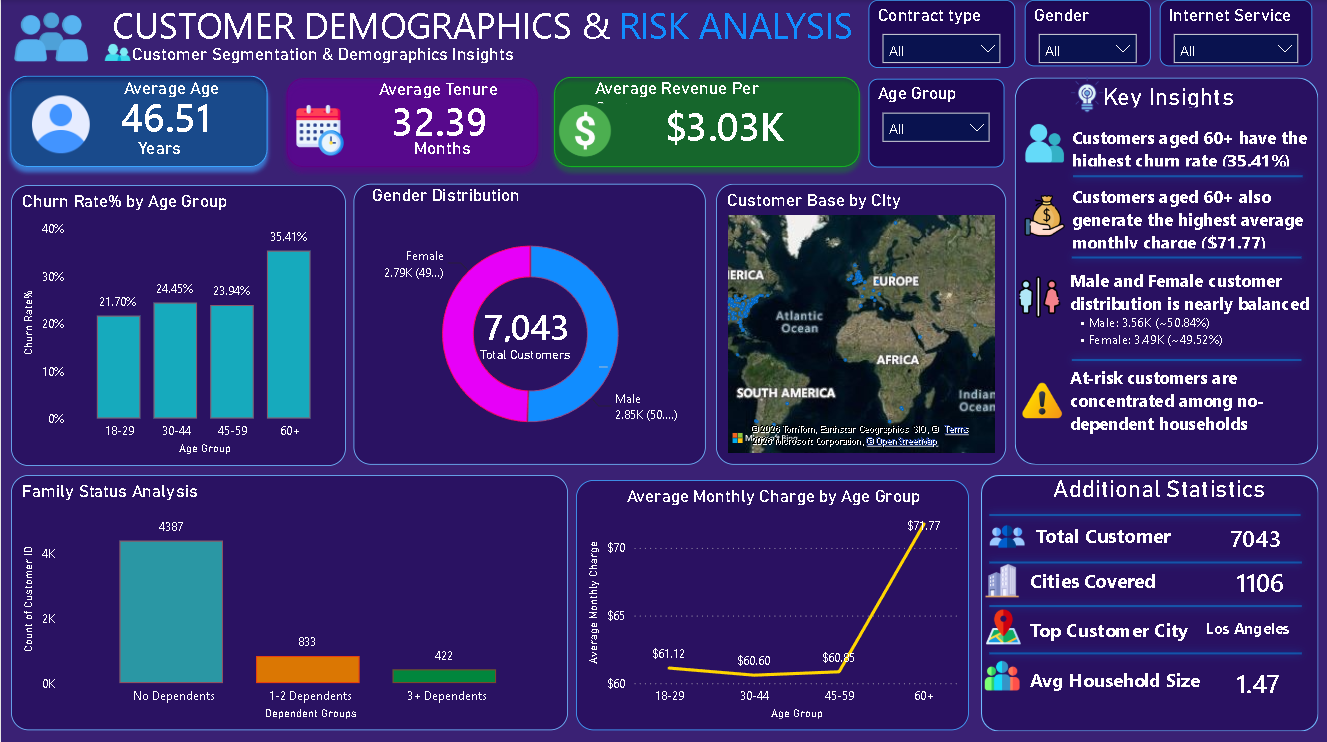

This screenshot's page, from the dashboard's own definition file:
{"tool":"powerbi","page":{"name":"Page 2","canvas":[1280,720],"ordinal":1},"visuals":[{"type":"shape","box":[0,64.2,266.3,106.3],"z":0},{"type":"clusteredColumnChart","title":"Churn Rate% by Age Group","fields":{"Y":["cleaned_tc_cust_churn.Churn Rate%"],"Category":["AgeGroupSort.Age Group"]},"box":[9.3,178.7,323.5,270.9],"z":1000},{"type":"lineChart","fields":{"Y":["cleaned_tc_cust_churn.Average Monthly Charge"],"Category":["AgeGroupSort.Age Group"]},"box":[554.7,463.6,379.6,241.8],"z":2000},{"type":"cardVisual","title":"Avg Age","fields":{"Data":["Avg(cleaned_tc_cust_churn.Age)"]},"box":[86.4,71.2,153,79.4],"z":3000},{"type":"textbox","title":"CUSTOMER DEMOGRAPHICS  &","box":[96.9,0,502.2,51.4],"z":4000},{"type":"textbox","title":"RISK ANALYSIS","box":[590.9,0,260.4,51.4],"z":5000},{"type":"textbox","title":"Average Age","box":[113.3,74.7,113.3,24.5],"z":6000},{"type":"textbox","title":"Years","box":[96.9,133.1,113.3,18.7],"z":7000},{"type":"image","box":[29.2,80.6,57.2,78.2],"z":8000},{"type":"shape","box":[266.3,66.6,260.4,103.9],"z":9000},{"type":"cardVisual","title":"Avg Age","fields":{"Data":["Avg(cleaned_tc_cust_churn.Tenure in Months)"]},"box":[349.2,74.7,153,79.4],"z":10000},{"type":"textbox","title":"Average Tenure","box":[359.7,75.9,133.1,23.4],"z":11000},{"type":"textbox","title":"Months","box":[369.1,133.1,113.3,18.7],"z":12000},{"type":"image","box":[283.8,94.6,49.1,63.1],"z":13000},{"type":"shape","box":[524.4,65.4,313,105.1],"z":14000},{"type":"cardVisual","title":"Avg Age","fields":{"Data":["cleaned_tc_cust_churn.Average Rev Per Cust"]},"box":[612,79.4,190.4,79.4],"z":15000},{"type":"textbox","title":"Average Revenue Per Customer","box":[568.8,74.7,248.8,24.5],"z":16000},{"type":"image","box":[532.6,89.9,63.1,71.2],"z":17000},{"type":"slicer","title":"Contract type","fields":{"Values":["cleaned_tc_cust_churn.Contract"]},"box":[837.4,0,141.3,65.4],"z":18000},{"type":"slicer","title":"Gender","fields":{"Values":["cleaned_tc_cust_churn.gender short"]},"box":[988,0,121.5,64.2],"z":19000},{"type":"slicer","title":"Internet Service","fields":{"Values":["cleaned_tc_cust_churn.Internet Service"]},"box":[1118.8,0,147.2,64.2],"z":20000},{"type":"donutChart","title":"Gender Distribution","fields":{"Category":["cleaned_tc_cust_churn.Gender"],"Y":["CountNonNull(cleaned_tc_cust_churn.Customer ID)"]},"box":[340,177.3,340.2,271.4],"z":21000},{"type":"cardVisual","fields":{"Data":["Count(cleaned_tc_cust_churn.Customer ID)"]},"box":[436.8,278,158.8,70.1],"z":22000},{"type":"textbox","title":"Total Customers","box":[457.8,335.2,133.1,24.5],"z":23000},{"type":"map","title":"Customer Base by CIty","fields":{"Category":["cleaned_tc_cust_churn.City"],"Size":["CountNonNull(cleaned_tc_cust_churn.Customer ID)"]},"box":[690.1,177.3,279.9,271.4],"z":24000},{"type":"clusteredColumnChart","title":"Family Status Analysis","fields":{"Category":["cleaned_tc_cust_churn.Dependent Groups"],"Y":["CountNonNull(cleaned_tc_cust_churn.Customer ID)"]},"box":[9.3,459,537.2,246.4],"z":25000},{"type":"shape","box":[978.4,74.8,293.2,374],"z":26000},{"type":"textbox","title":"Key Insights","box":[988,79.6,277.5,24.1],"z":27000},{"type":"textbox","title":"Customers aged 60+ have the highest churn rate (35.41%)","box":[1029.1,120.6,237.7,39.8],"z":28000},{"type":"image","box":[1029.1,71.2,38.6,39.8],"z":29000},{"type":"image","box":[988,118.2,38.6,39.8],"z":30000},{"type":"textbox","title":"Customers aged 60+ also generate the highest average monthly charge ($71.77)","box":[1029.1,177.3,237.7,62.7],"z":31000},{"type":"image","box":[983.2,188.2,48.3,39.8],"z":32000},{"type":"textbox","title":"Customers without dependents represent the largest customer segment and should be monitored for churn risk","box":[1026.7,347.4,253.3,88.1],"z":33000},{"type":"textbox","title":"Male and Female customer distribution is nearly balanced Male: 3.56K (~50%) Female: 3.49K (~50%)","box":[1026.7,253.3,253.3,106.2],"z":34000},{"type":"image","box":[978.4,266.6,48.3,39.8],"z":35000},{"type":"image","box":[983.2,359.5,43.4,55.5],"z":36000},{"type":"shape","box":[1026.7,152,237.7,36.2],"z":37000},{"type":"shape","box":[1025.4,329.3,237.7,36.2],"z":38000},{"type":"shape","box":[1025.4,230.4,237.7,36.2],"z":39000},{"type":"shape","box":[946,459,325.8,247.6],"z":40000},{"type":"textbox","title":"Additional Statistics","box":[979.9,459,276.8,23.4],"z":41000},{"type":"textbox","title":"Total Customer","box":[993.9,504.5,146,26.9],"z":42000},{"type":"cardVisual","title":"Avg Age","fields":{"Data":["CountNonNull(cleaned_tc_cust_churn.Customer ID)"]},"box":[1157.4,487,113.3,61.9],"z":43000},{"type":"shape","box":[946,478.8,316.5,36.2],"z":44000},{"type":"shape","box":[946,524.4,317.7,36.2],"z":45000},{"type":"shape","box":[946,560.6,317.7,47.9],"z":46000},{"type":"cardVisual","title":"Avg Age","fields":{"Data":["cleaned_tc_cust_churn.cities cov"]},"box":[1163.2,529.1,116.8,61.9],"z":47000},{"type":"textbox","title":"Cities Covered","box":[988,547.7,147.2,26.9],"z":48000},{"type":"shape","box":[946,601.5,317.7,57.2],"z":49000},{"type":"textbox","title":"Top Customer City","box":[988,595.6,169.3,26.9],"z":50000},{"type":"textbox","title":"Los Angeles","box":[1158.5,595.6,105.1,26.9],"z":51000},{"type":"textbox","title":"Avg Household Size","box":[988,644.7,181,26.9],"z":52000},{"type":"cardVisual","title":"Avg Age","fields":{"Data":["cleaned_tc_cust_churn.avg household size"]},"box":[1163.2,622.5,102.8,70.1],"z":53000},{"type":"slicer","title":"Age Group","fields":{"Values":["cleaned_tc_cust_churn.Age Group"]},"box":[837.4,75.9,130.8,85.3],"z":54000},{"type":"image","box":[954.2,487,33.9,60.7],"z":55000},{"type":"image","box":[949.5,540.7,33.9,39.7],"z":56000},{"type":"image","box":[950.7,585.1,33.9,39.7],"z":57000},{"type":"image","box":[949.5,631.8,33.9,39.7],"z":58000},{"type":"textbox","title":"Customer Segmentation & Demographics Insights","box":[121.5,42,411.1,23.4],"z":59000},{"type":"image","box":[9.3,0,77.1,71.2],"z":60000},{"type":"image","box":[100.4,32.7,24.5,36.2],"z":61000}]}

Visuals, with their boxes in screenshot pixels (x1, y1, x2, y2), scaled from the page's 1280x720 canvas onto the 1327x742 screenshot:
shape: [0,66,276,176]
"Churn Rate% by Age Group" clusteredColumnChart: [10,184,345,463]
lineChart - cleaned_tc_cust_churn.Average Monthly Charge x AgeGroupSort.Age Group: [575,478,969,727]
"Avg Age" cardVisual: [90,73,248,155]
"CUSTOMER DEMOGRAPHICS  &" textbox: [100,0,621,53]
"RISK ANALYSIS" textbox: [613,0,883,53]
"Average Age" textbox: [117,77,235,102]
"Years" textbox: [100,137,218,156]
image: [30,83,90,164]
shape: [276,69,546,176]
"Avg Age" cardVisual: [362,77,521,159]
"Average Tenure" textbox: [373,78,511,102]
"Months" textbox: [383,137,500,156]
image: [294,97,345,163]
shape: [544,67,868,176]
"Avg Age" cardVisual: [634,82,832,164]
"Average Revenue Per Customer" textbox: [590,77,848,102]
image: [552,93,618,166]
"Contract type" slicer: [868,0,1015,67]
"Gender" slicer: [1024,0,1150,66]
"Internet Service" slicer: [1160,0,1312,66]
"Gender Distribution" donutChart: [352,183,705,462]
cardVisual - Count(cleaned_tc_cust_churn.Customer ID): [453,286,617,359]
"Total Customers" textbox: [475,345,613,371]
"Customer Base by CIty" map: [715,183,1006,462]
"Family Status Analysis" clusteredColumnChart: [10,473,567,727]
shape: [1014,77,1318,463]
"Key Insights" textbox: [1024,82,1312,107]
"Customers aged 60+ have the highest churn rate (35.41%)" textbox: [1067,124,1313,165]
image: [1067,73,1107,114]
image: [1024,122,1064,163]
"Customers aged 60+ also generate the highest average monthly charge ($71.77)" textbox: [1067,183,1313,247]
image: [1019,194,1069,235]
"Customers without dependents represent the largest customer segment and should be monitored for churn risk" textbox: [1064,358,1326,449]
"Male and Female customer distribution is nearly balanced Male: 3.56K (~50%) Female: 3.49K (~50%)" textbox: [1064,261,1326,370]
image: [1014,275,1064,316]
image: [1019,370,1064,428]
shape: [1064,157,1311,194]
shape: [1063,339,1309,377]
shape: [1063,237,1309,275]
shape: [981,473,1318,728]
"Additional Statistics" textbox: [1016,473,1303,497]
"Total Customer" textbox: [1030,520,1182,548]
"Avg Age" cardVisual: [1200,502,1317,566]
shape: [981,493,1309,531]
shape: [981,540,1310,578]
shape: [981,578,1310,627]
"Avg Age" cardVisual: [1206,545,1326,609]
"Cities Covered" textbox: [1024,564,1177,592]
shape: [981,620,1310,679]
"Top Customer City" textbox: [1024,614,1200,642]
"Los Angeles" textbox: [1201,614,1310,642]
"Avg Household Size" textbox: [1024,664,1212,692]
"Avg Age" cardVisual: [1206,642,1312,714]
"Age Group" slicer: [868,78,1004,166]
image: [989,502,1024,564]
image: [984,557,1020,598]
image: [986,603,1021,644]
image: [984,651,1020,692]
"Customer Segmentation & Demographics Insights" textbox: [126,43,552,67]
image: [10,0,90,73]
image: [104,34,129,71]
